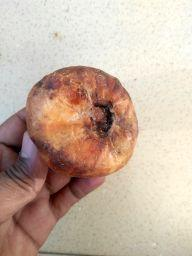guava: (23, 62, 140, 178)
